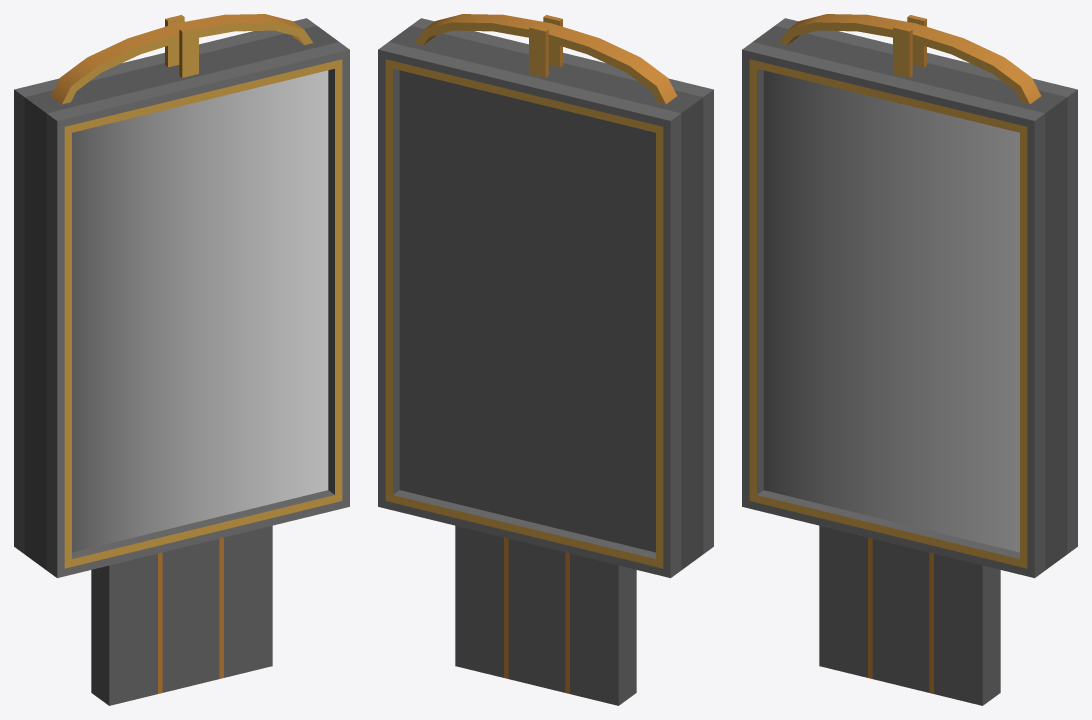
File: AdSign_Clear.fbx
3 renders of one model, left to right at view 1: azimuth 30°, elevation 25°; view 2: azimuth 150°, elevation 25°; view 3: azimuth 330°, elevation 25°, orthographic.
Parts seen in each view (by area): view 1: AdSign_Clear; view 2: AdSign_Clear; view 3: AdSign_Clear.
Part boxes in pixels (<box>): AdSign_Clear: <box>14,14,349,705</box>; AdSign_Clear: <box>378,14,713,705</box>; AdSign_Clear: <box>742,14,1077,705</box>.
Bounding box in the file's own units: 123 × 264 × 31.43.
